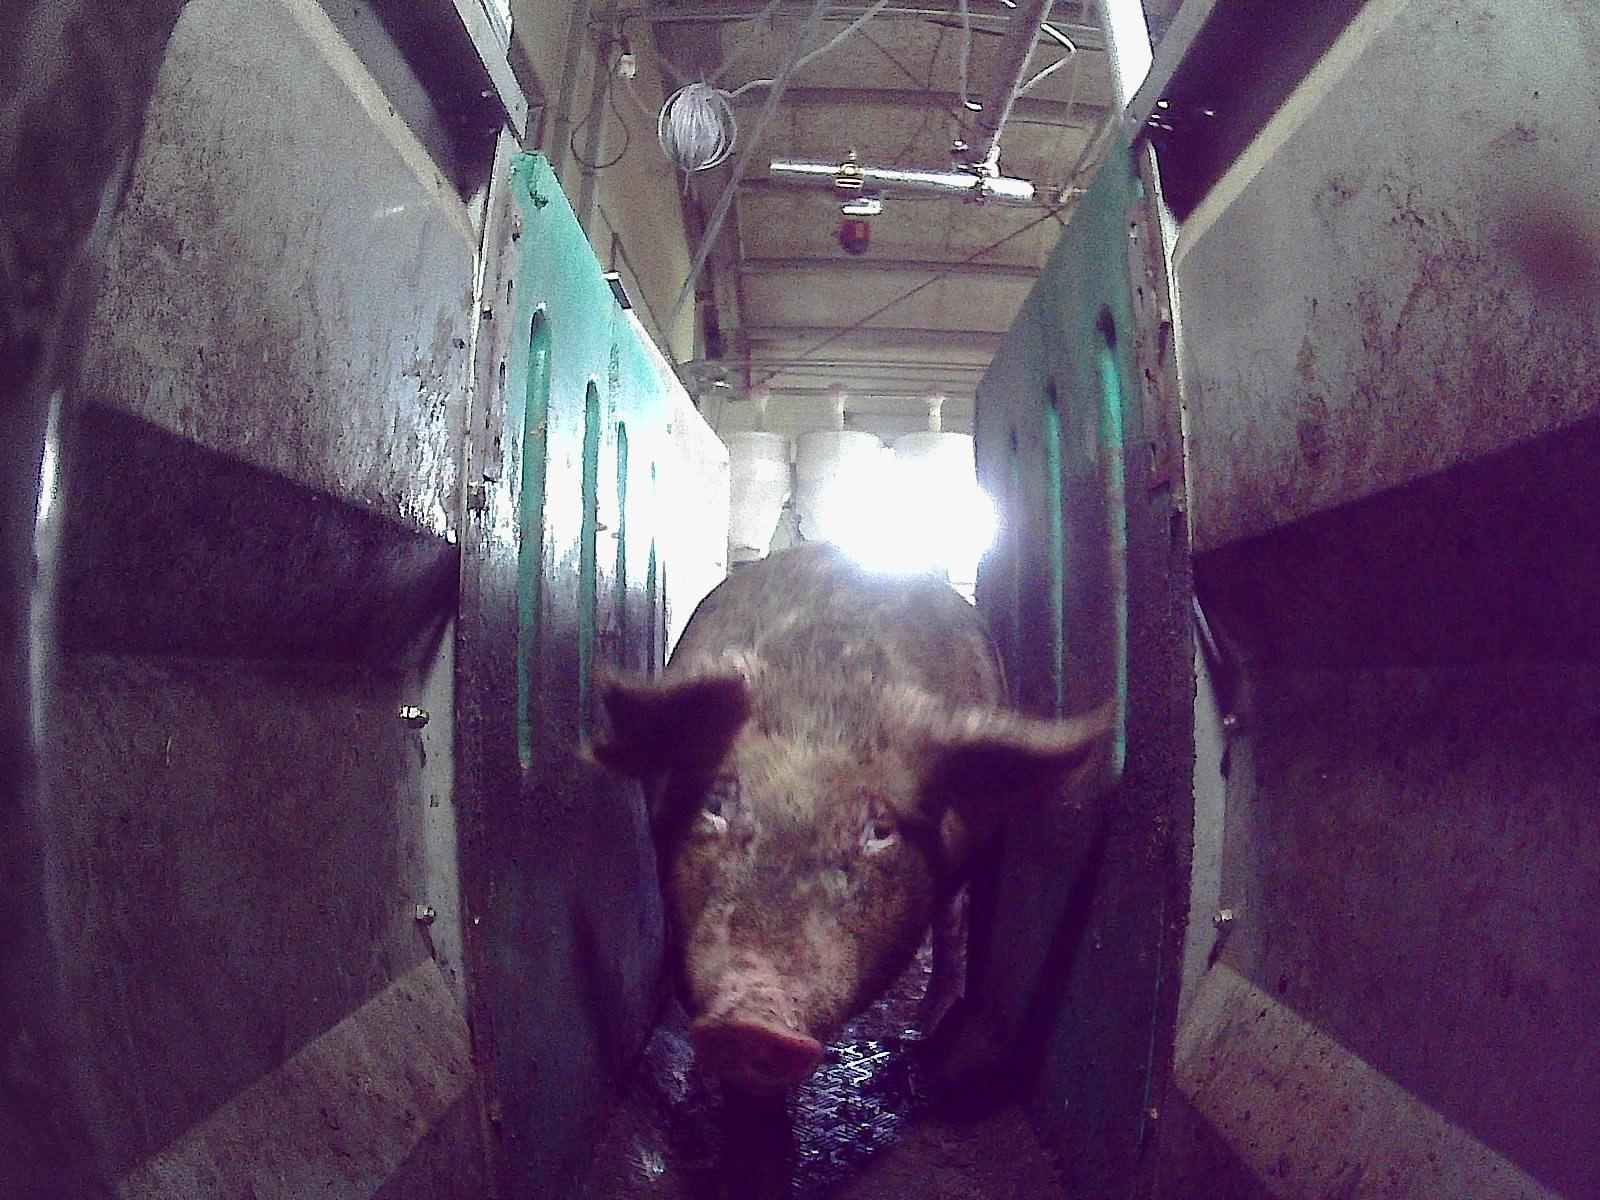Face: (650, 697, 944, 1090)
